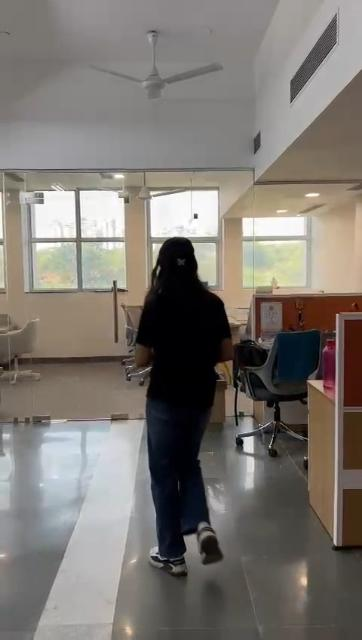floor: (1, 384, 140, 640), (215, 462, 307, 638)
moving-obj: (96, 233, 262, 575)
object: (225, 316, 337, 448), (1, 298, 46, 376)
wall: (314, 195, 362, 298), (40, 292, 108, 356), (217, 192, 244, 320), (0, 207, 32, 313), (126, 201, 152, 291)
